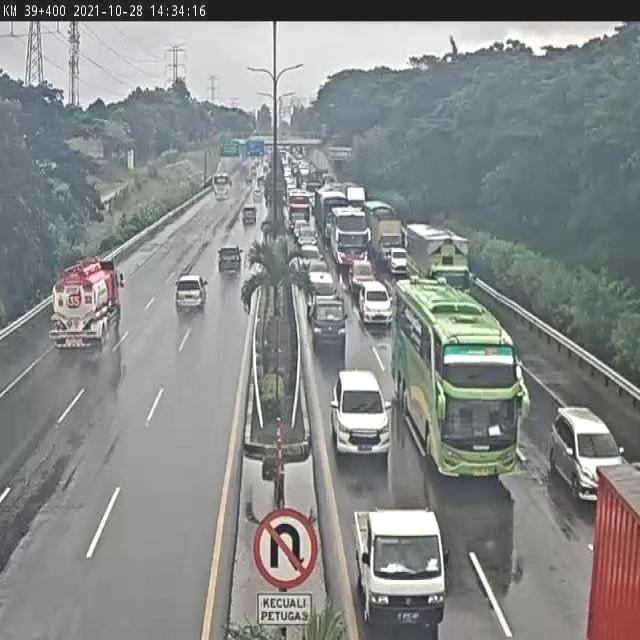Bus: (331, 203, 372, 268), (287, 190, 313, 232), (210, 173, 234, 200)
Car: (548, 402, 628, 501), (330, 370, 394, 461), (357, 281, 394, 329), (304, 272, 338, 316), (175, 274, 207, 312), (349, 260, 376, 300), (217, 246, 243, 274), (386, 245, 407, 278), (297, 244, 324, 267), (297, 225, 320, 249), (305, 260, 330, 276), (294, 219, 308, 240), (242, 206, 256, 225), (252, 187, 262, 202)
Truck: (392, 274, 526, 478), (351, 506, 447, 633), (50, 256, 125, 357), (404, 220, 475, 300), (309, 297, 347, 350), (314, 186, 349, 239), (371, 213, 404, 263), (363, 199, 399, 227), (345, 185, 366, 213)
